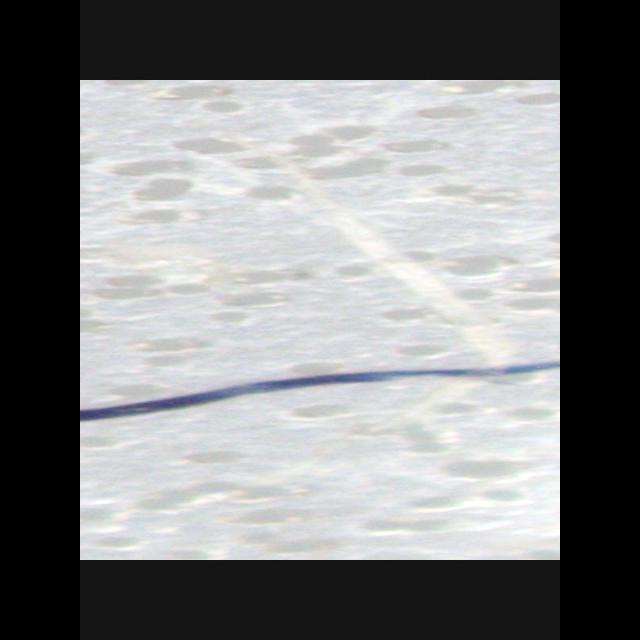Fibre: (222, 118, 524, 492), (80, 340, 560, 426)
